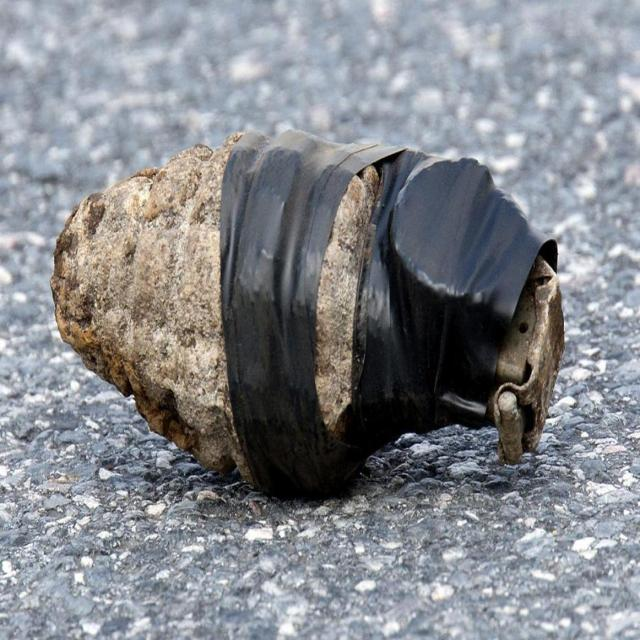grenade: (52, 126, 566, 506)
